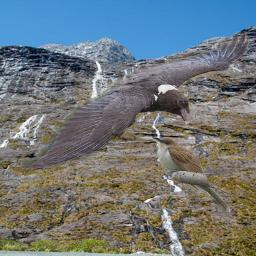Crow: (23, 31, 249, 172)
Cuckoo: (153, 137, 231, 213)
